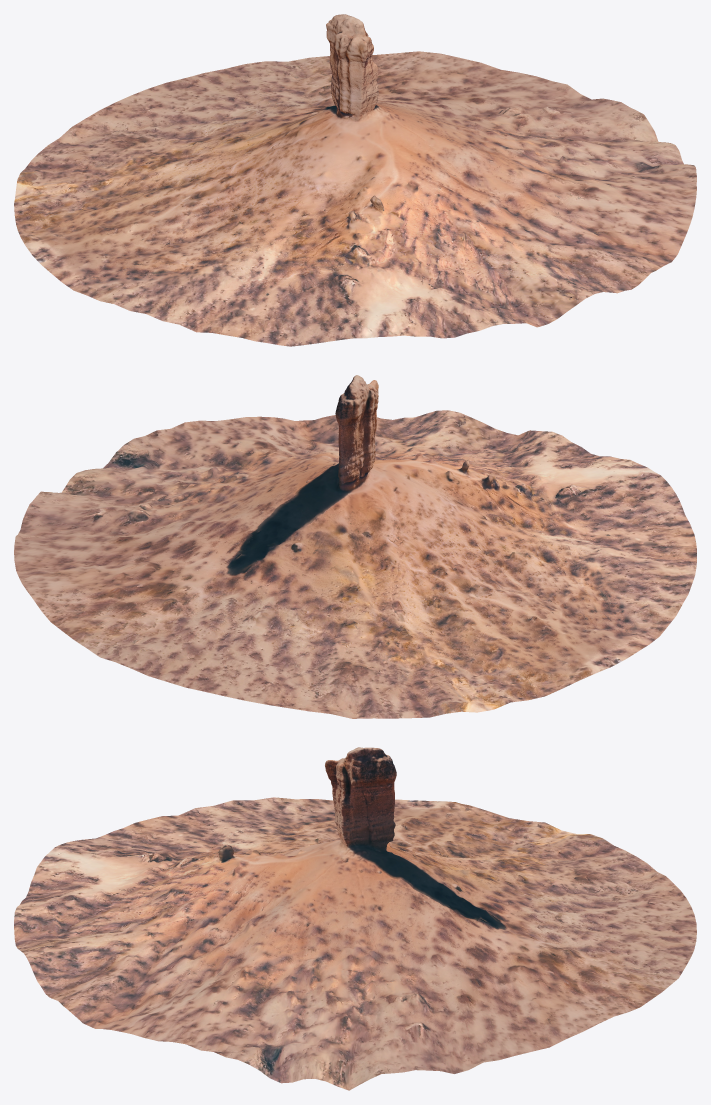
File: finger_of_god_namibia_detailed.glb
The picture shows the model from 3 angles, top to bottom: view 1: azimuth 30°, elevation 25°; view 2: azimuth 150°, elevation 25°; view 3: azimuth 270°, elevation 25°; orthographic projection.
Visible parts, largest first — view 1: Plane; view 2: Plane; view 3: Plane.
Boxes of the visible parts, x1=… form: Plane: x1=14, y1=14, x2=696, y2=346; Plane: x1=14, y1=375, x2=696, y2=718; Plane: x1=14, y1=747, x2=696, y2=1090.
Size of the model in its own units: 1558 by 496 by 1554.
1 material, 1 textured.
